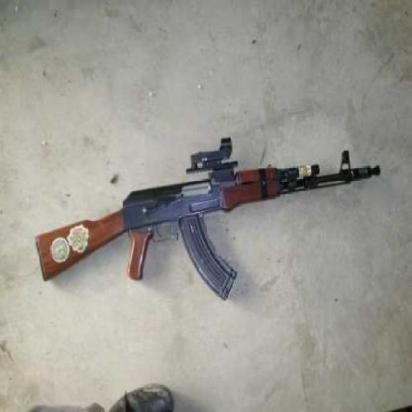Gun: (34, 138, 382, 284)
